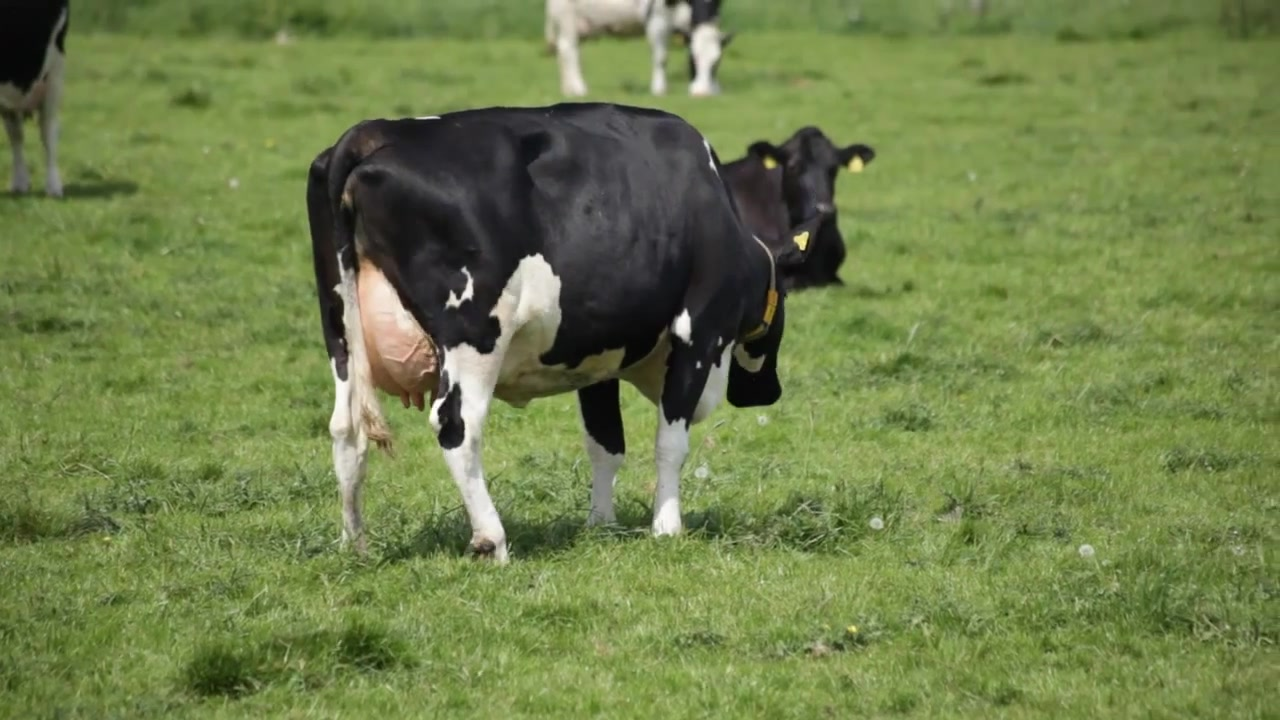cow: (306, 101, 825, 570)
